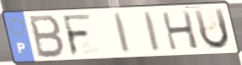B: (28, 14, 67, 60)
F: (61, 13, 94, 58)
H: (160, 10, 201, 52)
I: (111, 12, 133, 55), (141, 10, 162, 54)
U: (192, 7, 232, 52)
